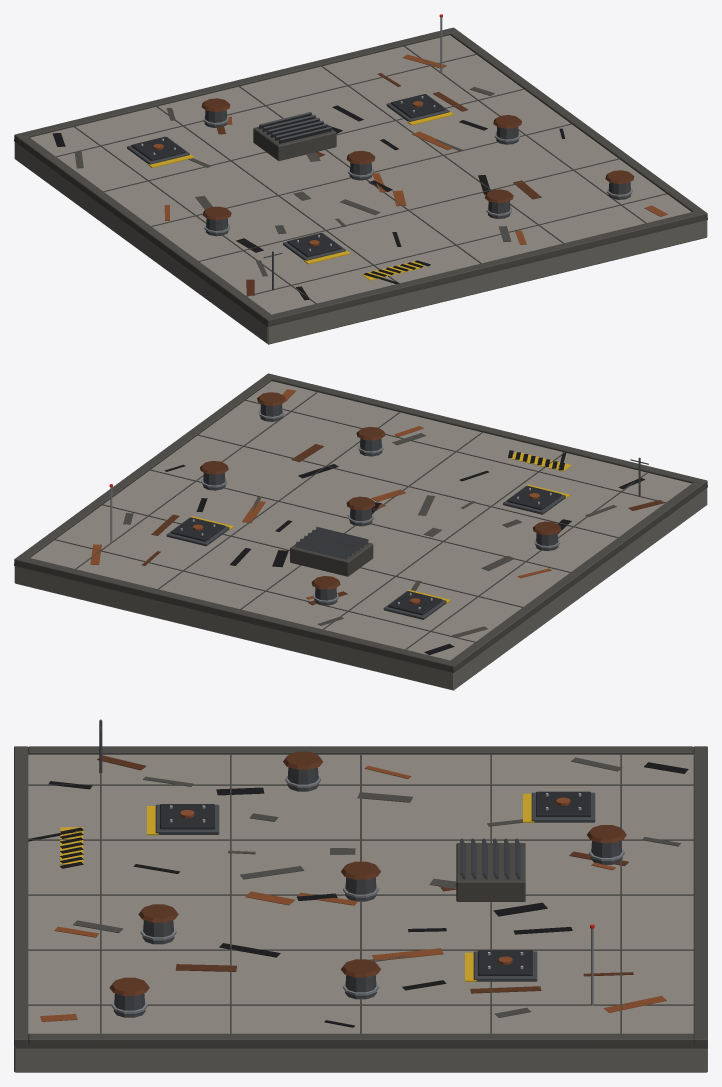
The model's file is lmk_bunker_roof.fbx.
3 views of the same model, one above another, from view 1: azimuth 30°, elevation 25°; view 2: azimuth 150°, elevation 25°; view 3: azimuth 270°, elevation 25° (orthographic). The views are drawn at different scales.
Parts seen in each view (by area): view 1: lmk_bunker_roof; view 2: lmk_bunker_roof; view 3: lmk_bunker_roof.
Part boxes in pixels (x1,y1,x2,y2): lmk_bunker_roof: [14, 14, 707, 344]; lmk_bunker_roof: [14, 373, 707, 690]; lmk_bunker_roof: [14, 719, 707, 1072].
Bounding box in the file's own units: 24 × 4.25 × 24.
